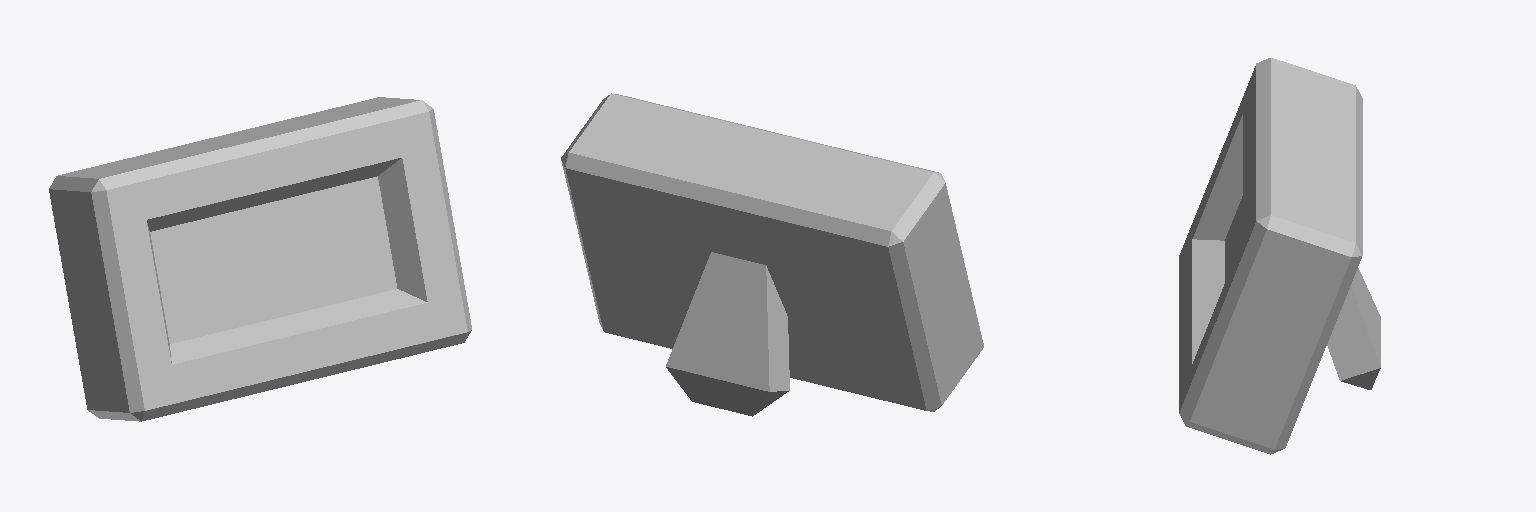
The model's file is pictureframe_standing_B.obj.
The picture shows the model from 3 angles: view 1: azimuth 30°, elevation 25°; view 2: azimuth 150°, elevation 25°; view 3: azimuth 270°, elevation 25°; orthographic projection.
Visible parts, largest first — view 1: pictureframe_standing_B_Cube.023; view 2: pictureframe_standing_B_Cube.023; view 3: pictureframe_standing_B_Cube.023.
Boxes of the visible parts, <box> form: pictureframe_standing_B_Cube.023: <box>49,97,471,421</box>; pictureframe_standing_B_Cube.023: <box>561,93,983,416</box>; pictureframe_standing_B_Cube.023: <box>1179,58,1380,454</box>.
Size of the model in its own units: 0.7 by 0.4682 by 0.357.